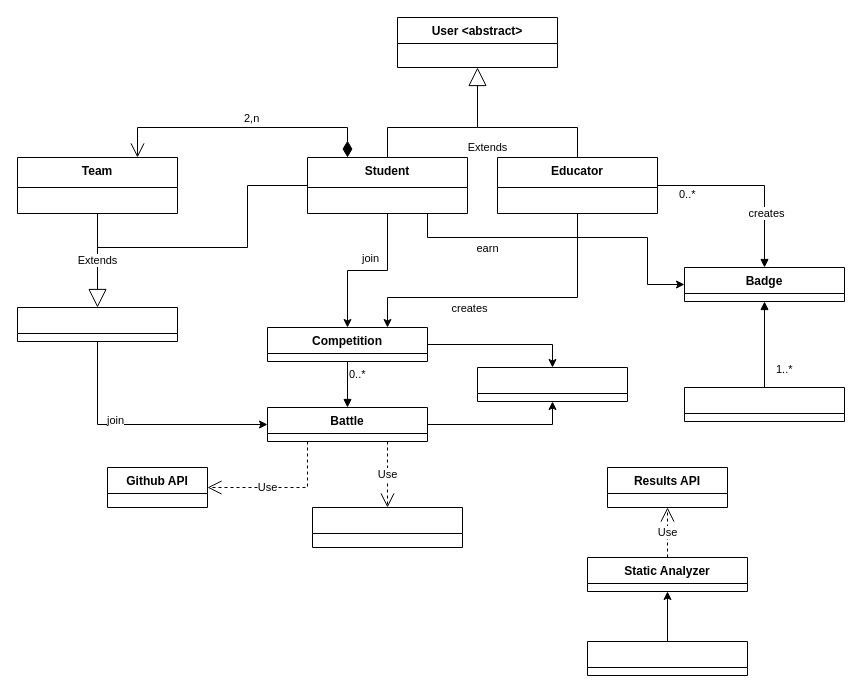
Some shapes in this 862 by 693 pixel diagram are drawn without their labels. Each missing label, with the box of its shape:
NotificationHandler: (476, 366, 628, 402)
Participant: (16, 306, 178, 342)
Rules: (684, 386, 844, 422)
SA_Configuration API: (312, 506, 462, 548)
SA_Server: (586, 640, 748, 676)
